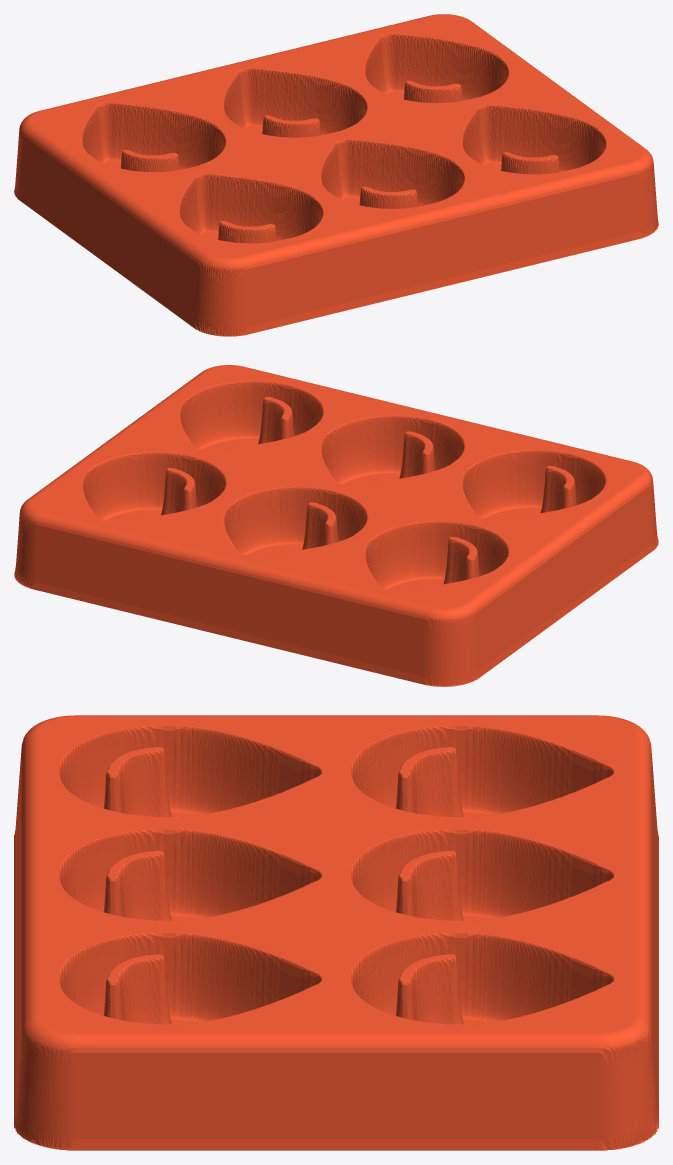
File: mold.glb
3 views of the same model, one above another, from view 1: azimuth 30°, elevation 25°; view 2: azimuth 150°, elevation 25°; view 3: azimuth 270°, elevation 25° (orthographic). The views are drawn at different scales.
Visible parts, largest first — view 1: geometry_0; view 2: geometry_0; view 3: geometry_0.
Part boxes in pixels (box(x1,y1,x2,y2)): geometry_0: box(14, 14, 658, 336); geometry_0: box(14, 365, 658, 686); geometry_0: box(14, 715, 658, 1150).
Size of the model in its own units: 0.1179 by 0.0175 by 0.0955.
